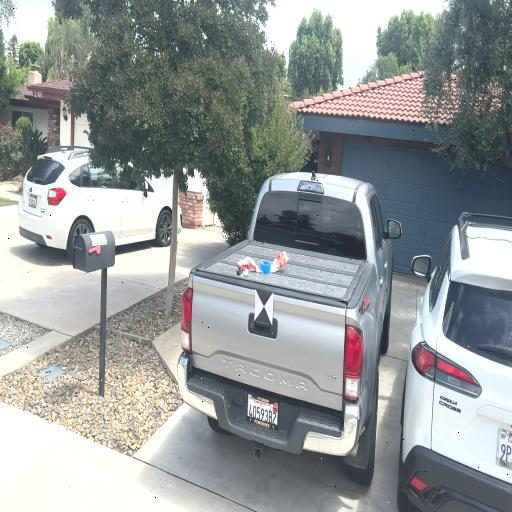target: (254, 289, 273, 326)
